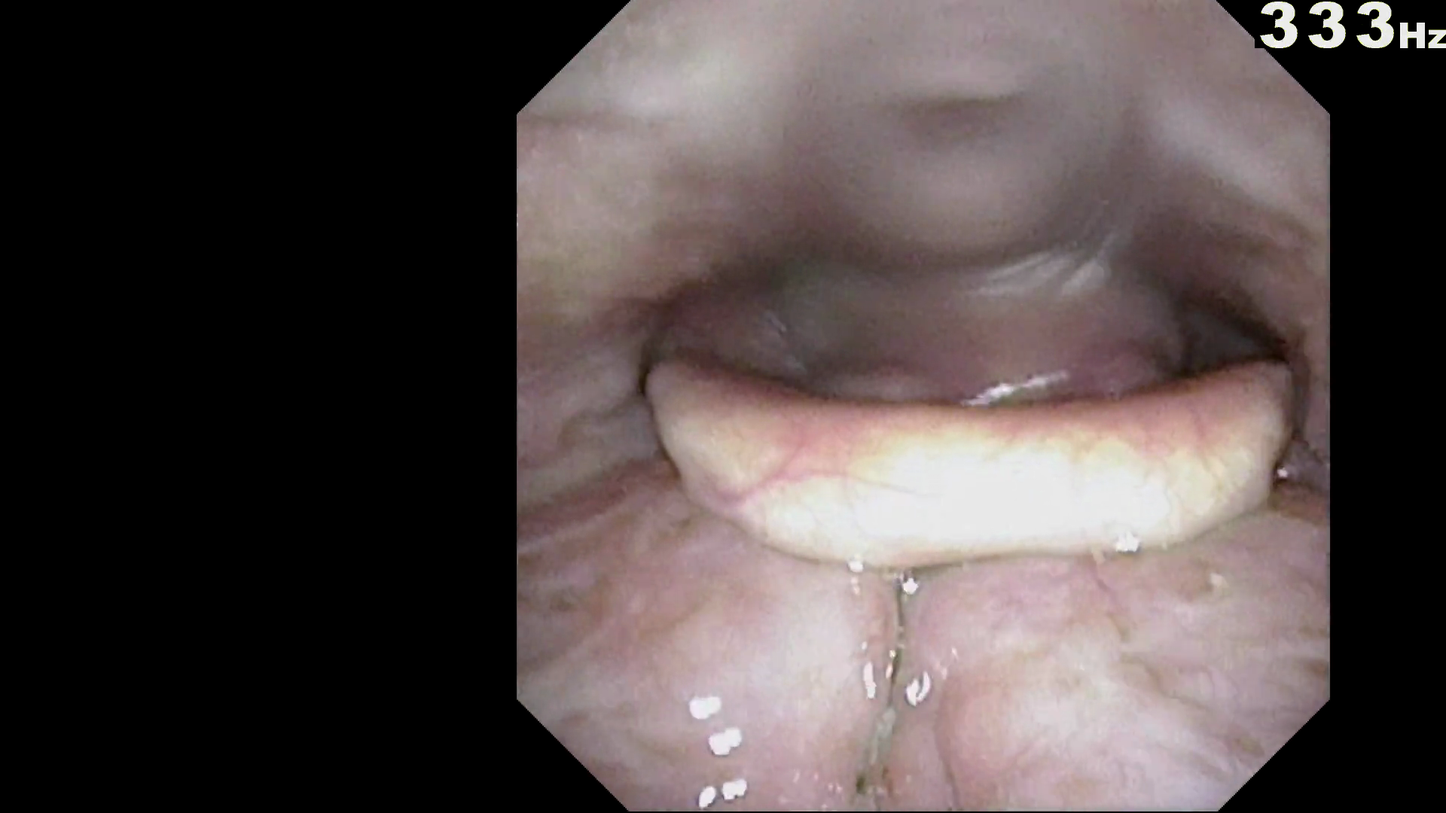epiglottis: (673, 372, 1282, 597)
